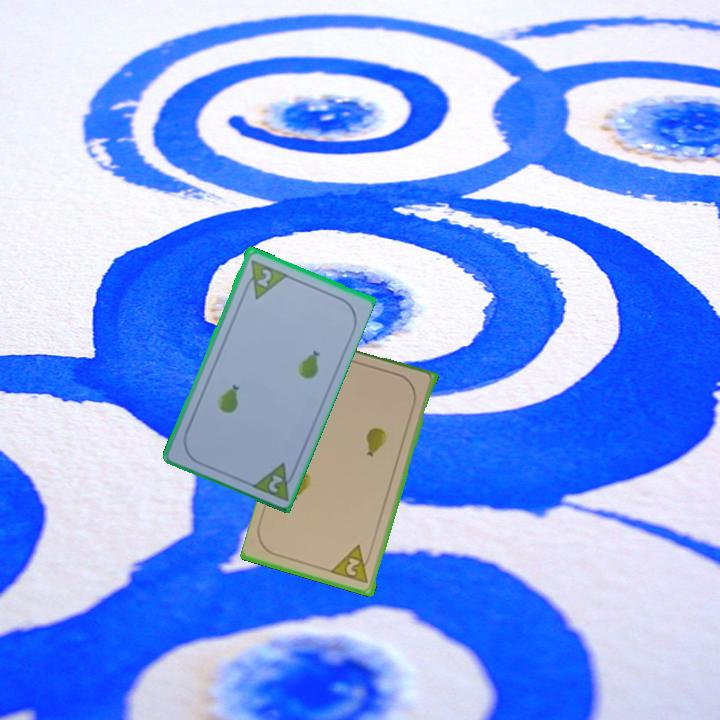2p: (239, 255, 289, 302), (329, 542, 374, 587), (265, 470, 286, 495)
